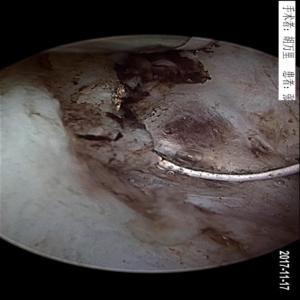film: (108, 97, 284, 227)
